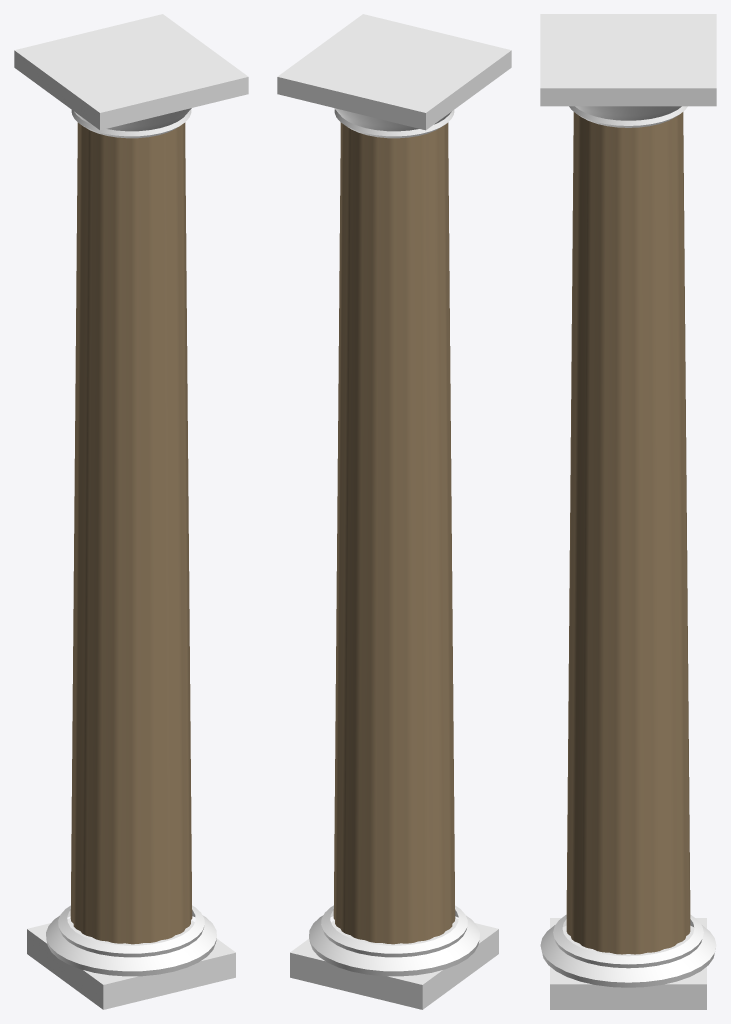
File: column_citadel.glb
The picture shows the model from 3 angles, left to right: view 1: azimuth 30°, elevation 25°; view 2: azimuth 150°, elevation 25°; view 3: azimuth 270°, elevation 25°; orthographic projection. The views are drawn at different scales.
Parts seen in each view (by area): view 1: column_citadel; view 2: column_citadel; view 3: column_citadel.
Boxes of the visible parts, box(x1,y1,x2,y2) form: column_citadel: box(14, 14, 248, 1009); column_citadel: box(277, 14, 511, 1009); column_citadel: box(540, 14, 716, 1009).
Size of the model in its own units: 2.24 by 12.99 by 2.24.
